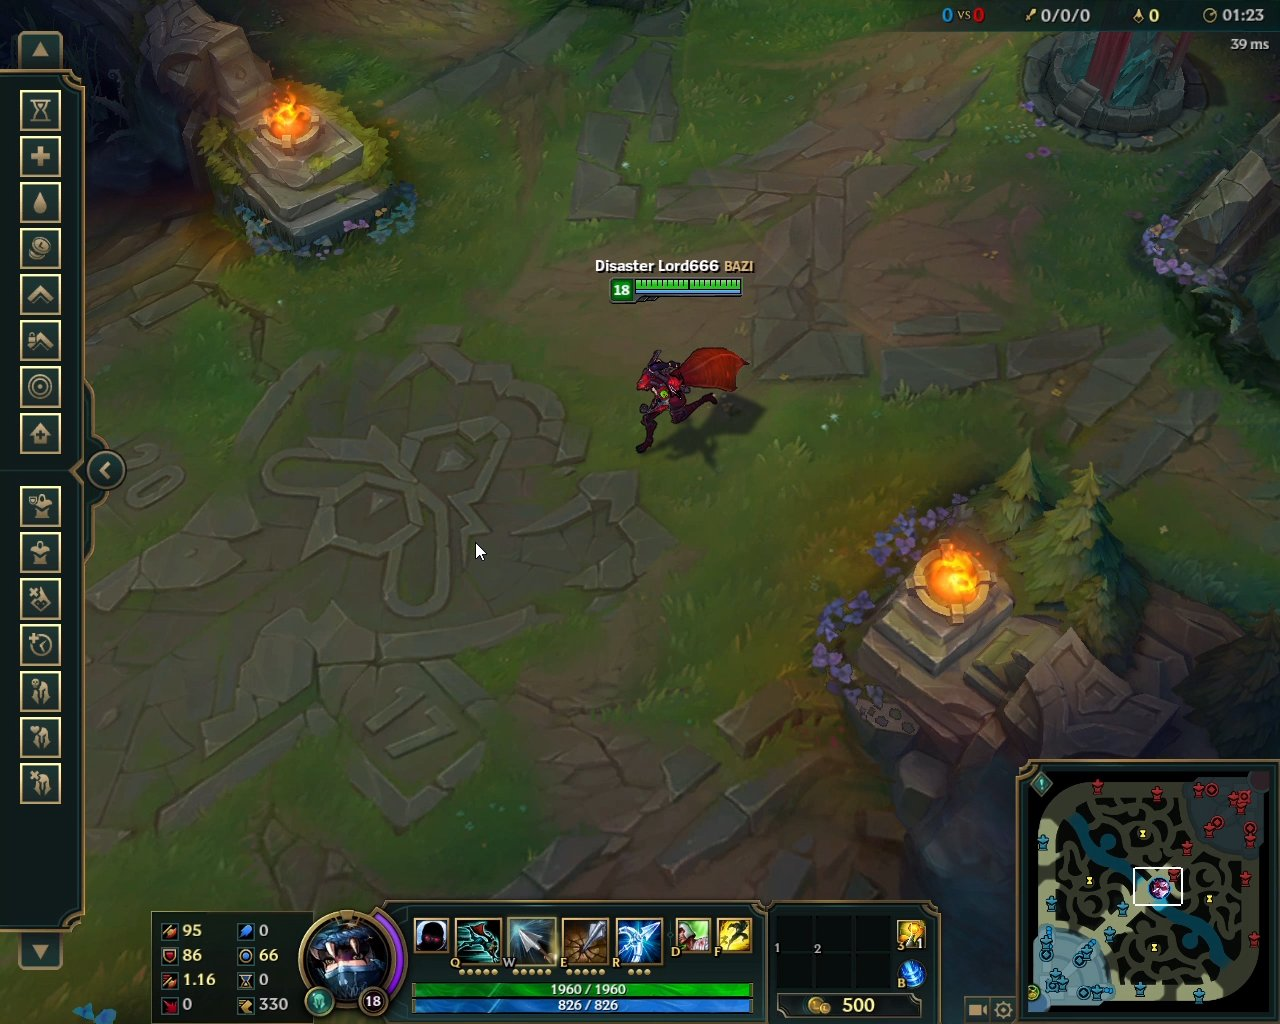Vayne: (630, 342, 750, 457)
